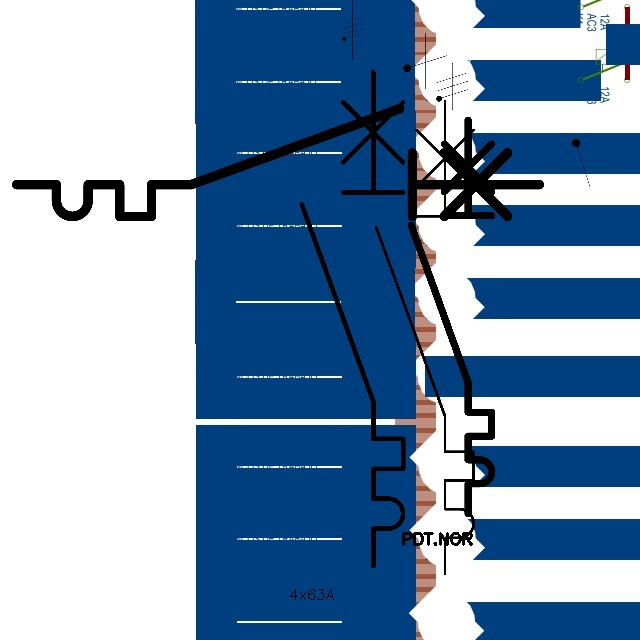interruptor_termomagnetico: (3, 95, 553, 230), (289, 59, 416, 578), (364, 89, 486, 586), (401, 109, 502, 523)
